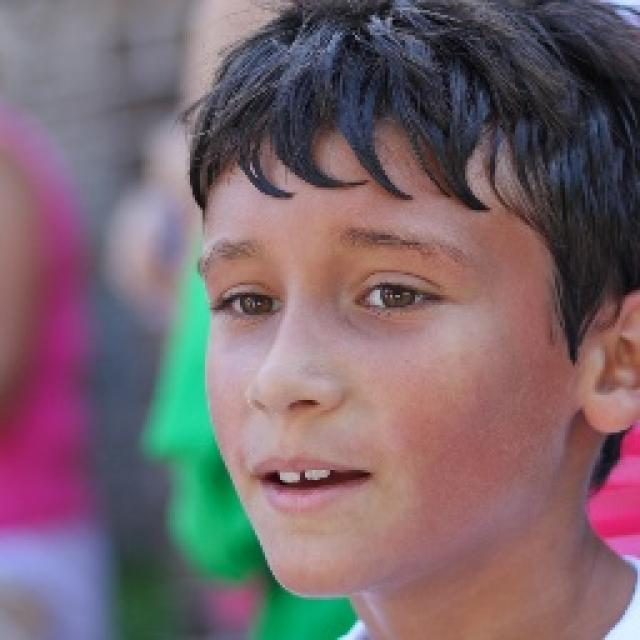earlobe: (582, 285, 640, 435)
